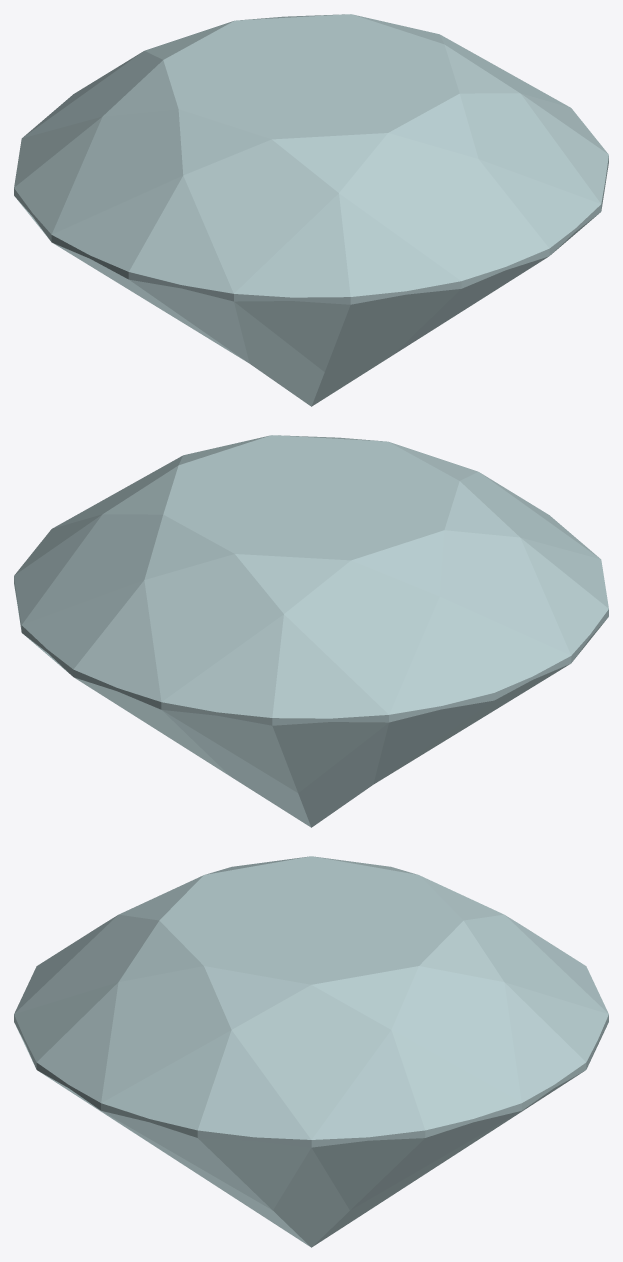
File: brilliant.fbx
3 views of the same model, one above another, from view 1: azimuth 30°, elevation 25°; view 2: azimuth 150°, elevation 25°; view 3: azimuth 270°, elevation 25° (orthographic).
Visible parts, largest first — view 1: stone_Brilliant_cut; view 2: stone_Brilliant_cut; view 3: stone_Brilliant_cut.
Boxes of the visible parts, box(x1,y1,x2,y2) form: stone_Brilliant_cut: box(14, 14, 608, 406); stone_Brilliant_cut: box(14, 435, 608, 827); stone_Brilliant_cut: box(14, 856, 608, 1247).
Size of the model in its own units: 1.4 by 0.8522 by 1.4.
